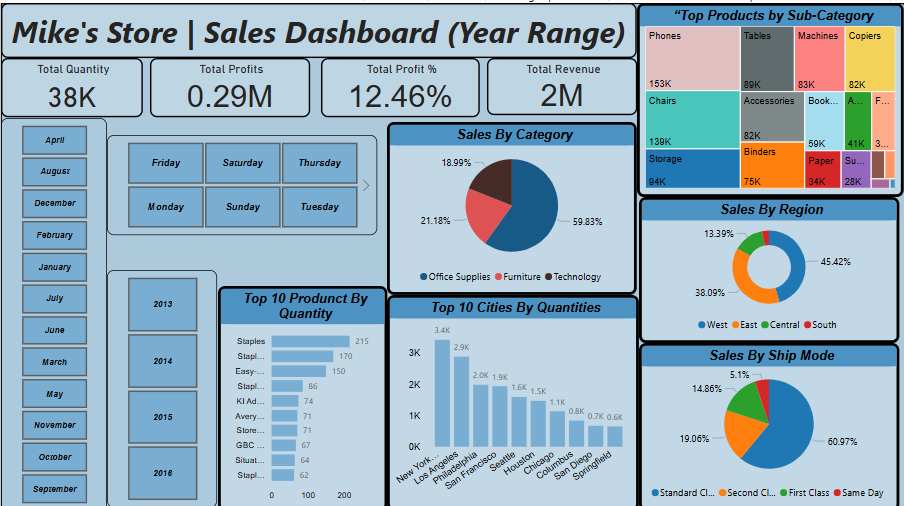

Layout of this report page (visuals, bound fields, positions):
{"tool":"powerbi","page":{"name":"Page 1","canvas":[1280,720],"ordinal":0},"visuals":[{"type":"columnChart","title":"Top 10 Cities By Quantities","fields":{"Category":["Superstore dataset.City"],"Y":["Superstore dataset.Quantity"]},"box":[547.1,413.9,357.2,306.1],"z":0},{"type":"pieChart","title":"Sales By Category","fields":{"Y":["Superstore dataset.Quantity"],"Category":["Superstore dataset.Category"]},"box":[547.1,168.7,354.3,245.2],"z":1000},{"type":"donutChart","title":"Sales By Region","fields":{"Category":["Superstore dataset.Region"],"Y":["Superstore dataset.Sales"]},"box":[904.3,275,368.5,206.9],"z":2000},{"type":"barChart","title":"Top 10 Produnct By Quantity","fields":{"Category":["Superstore dataset.Product Name"],"Y":["Superstore dataset.Quantity"]},"box":[307.6,401.1,239.5,318.9],"z":3000},{"type":"pieChart","title":"Sales By Ship Mode","fields":{"Y":["Superstore dataset.Quantity"],"Category":["Superstore dataset.Ship Mode"]},"box":[904.3,481.9,368.5,238.1],"z":4000},{"type":"treemap","title":"“Top Products by Sub-Category","fields":{"Group":["Superstore dataset.Sub-Category"],"Values":["Superstore dataset.Sales"]},"box":[901.4,0,378.4,275],"z":5000},{"type":"slicer","fields":{"Values":["Superstore dataset.Order Month"]},"box":[0,163,150.2,557],"z":6000},{"type":"slicer","fields":{"Values":["Superstore dataset.Order Day"]},"box":[150.2,187.1,382.7,141.7],"z":7000},{"type":"card","title":"Total Quantity","fields":{"Values":["Superstore dataset.Quantity"]},"box":[0,78,201.3,83.6],"z":8000},{"type":"card","title":"Total Revenue","fields":{"Values":["Superstore dataset.Sales"]},"box":[688.8,78,212.6,80.8],"z":9000},{"type":"card","title":"Total Profits","fields":{"Values":["Superstore dataset.Profit"]},"box":[211.2,78,226.8,83.6],"z":10000},{"type":"card","title":"Total Profit %","fields":{"Values":["Superstore dataset.Profit%"]},"box":[453.5,78,225.4,83.6],"z":11000},{"type":"textbox","box":[0,0,901.4,78],"z":12000},{"type":"slicer","fields":{"Values":["Superstore dataset.Order Year"]},"box":[150.2,378.4,155.9,337.3],"z":13000}]}

Visuals, with their boxes in screenshot pixels (x1, y1, x2, y2), scaled from the page's 1280x720 canvas onto the 904x506 screenshot:
"Top 10 Cities By Quantities" columnChart: bbox=[386, 291, 639, 505]
"Sales By Category" pieChart: bbox=[386, 119, 637, 291]
"Sales By Region" donutChart: bbox=[639, 193, 899, 339]
"Top 10 Produnct By Quantity" barChart: bbox=[217, 282, 386, 505]
"Sales By Ship Mode" pieChart: bbox=[639, 339, 899, 505]
"“Top Products by Sub-Category" treemap: bbox=[637, 0, 903, 193]
slicer - Superstore dataset.Order Month: bbox=[0, 115, 106, 505]
slicer - Superstore dataset.Order Day: bbox=[106, 131, 376, 231]
"Total Quantity" card: bbox=[0, 55, 142, 114]
"Total Revenue" card: bbox=[486, 55, 637, 112]
"Total Profits" card: bbox=[149, 55, 309, 114]
"Total Profit %" card: bbox=[320, 55, 479, 114]
textbox: bbox=[0, 0, 637, 55]
slicer - Superstore dataset.Order Year: bbox=[106, 266, 216, 503]
